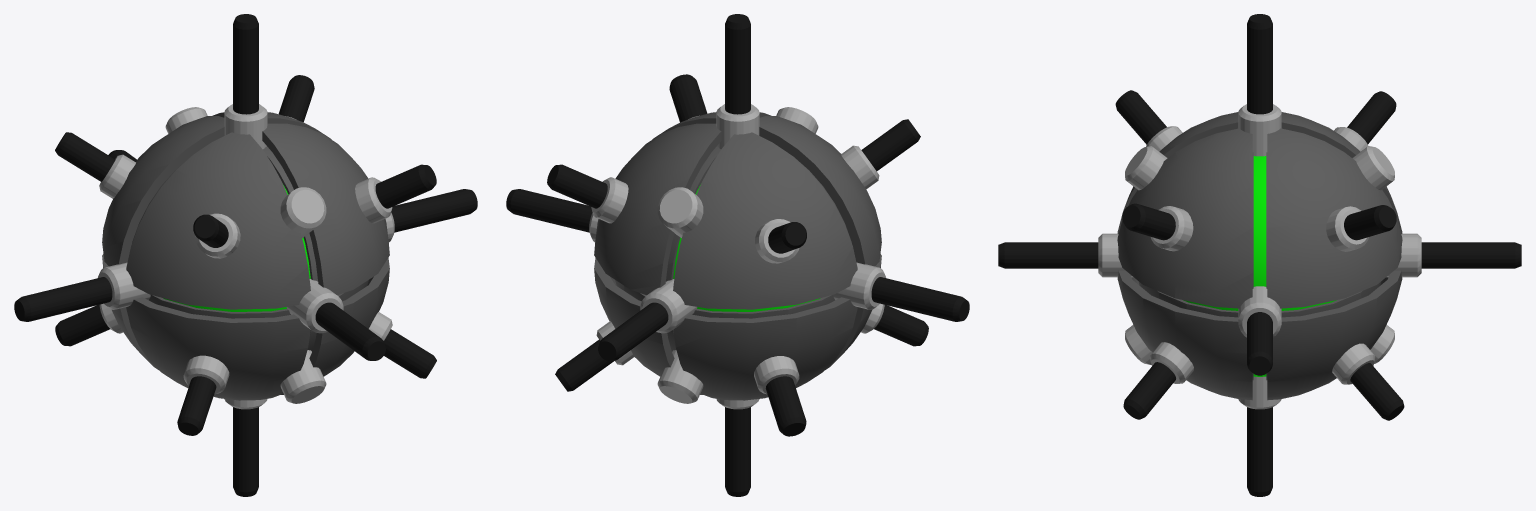
Rendered from SpaceMine 2.0.fbx.
The picture shows the model from 3 angles, left to right: view 1: azimuth 30°, elevation 25°; view 2: azimuth 150°, elevation 25°; view 3: azimuth 270°, elevation 25°; orthographic projection.
Parts seen in each view (by area): view 1: group2; view 2: group2; view 3: group2.
Boxes of the visible parts, <box> form: group2: <box>14,14,477,496</box>; group2: <box>506,14,969,496</box>; group2: <box>998,14,1521,496</box>.
Bounding box in the file's own units: 3.6 × 3.6 × 3.6.
